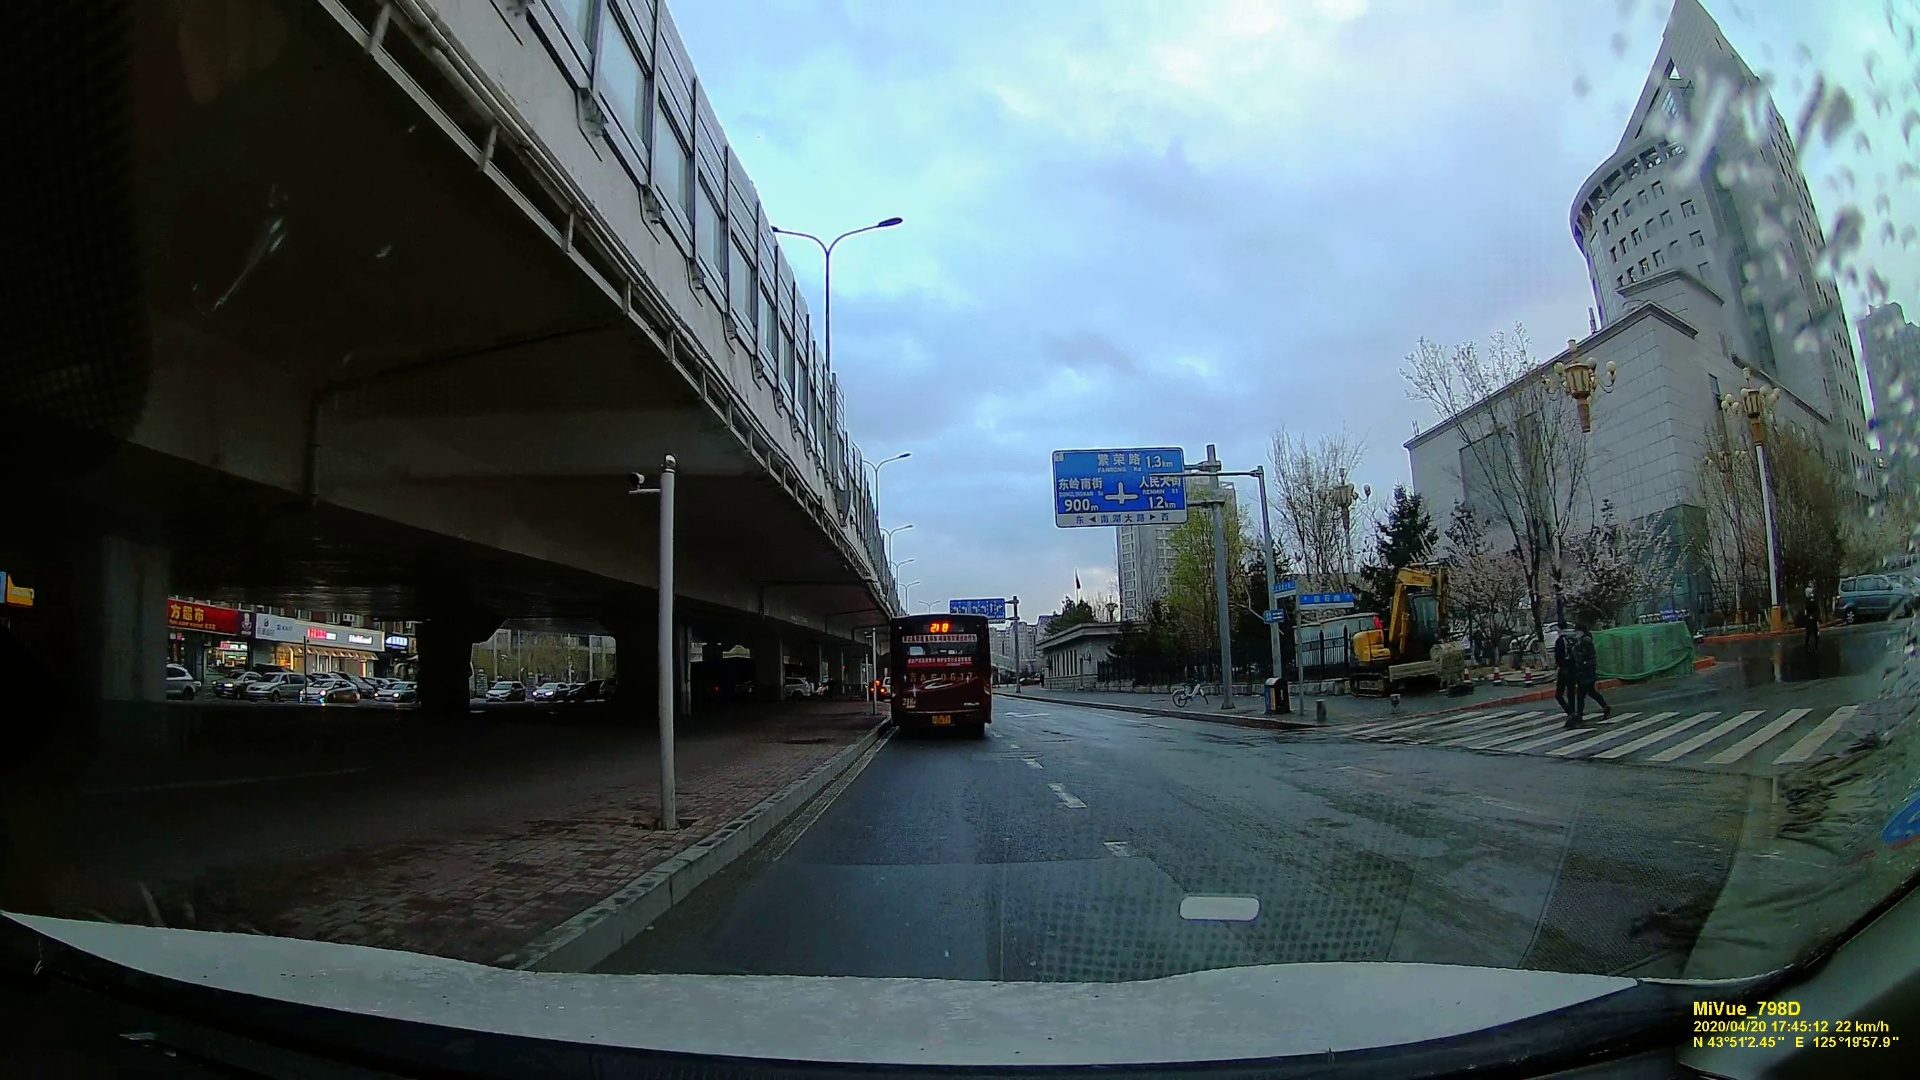bus: (891, 615, 994, 739)
person: (1549, 622, 1608, 729)
traffic_sign: (1053, 456, 1180, 523), (1259, 584, 1361, 628), (948, 597, 1002, 623)
vehicle: (1838, 572, 1917, 624), (481, 678, 523, 699)
